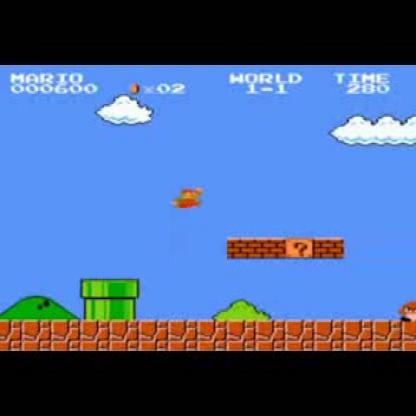Goomba: (395, 296, 415, 322)
